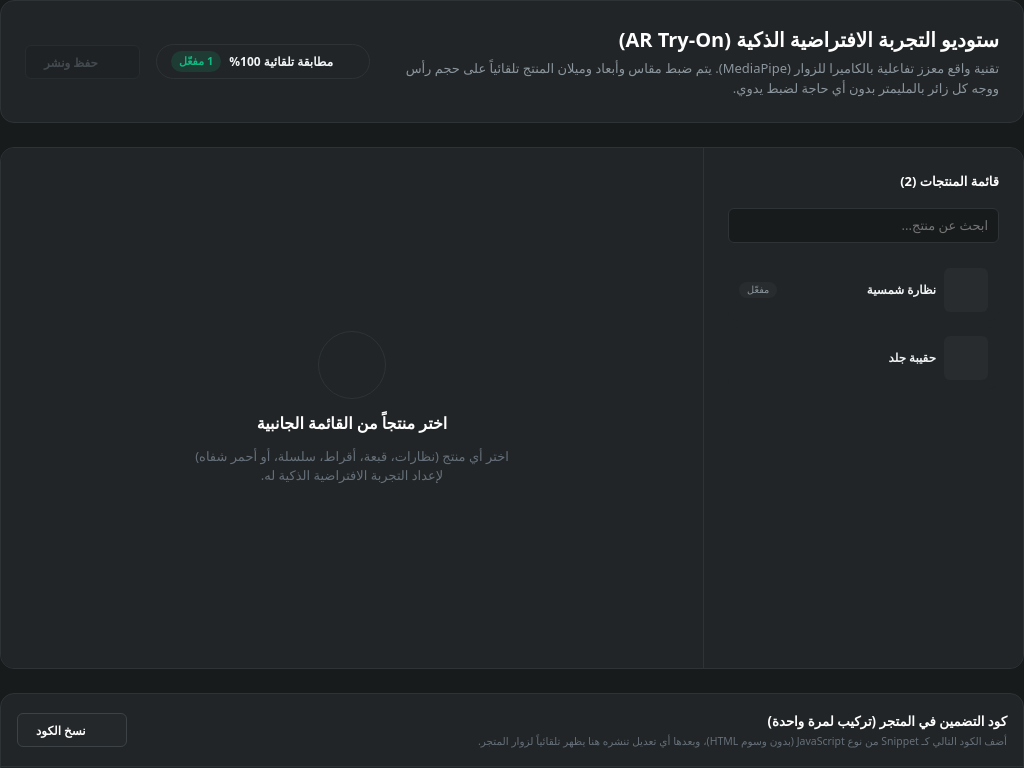
Test: TryOnStudio › filters the product list by search
Type "حقيبة" into the search field with placeholder "ابحث عن منتج..." at (864, 225), box [728,208,999,243]
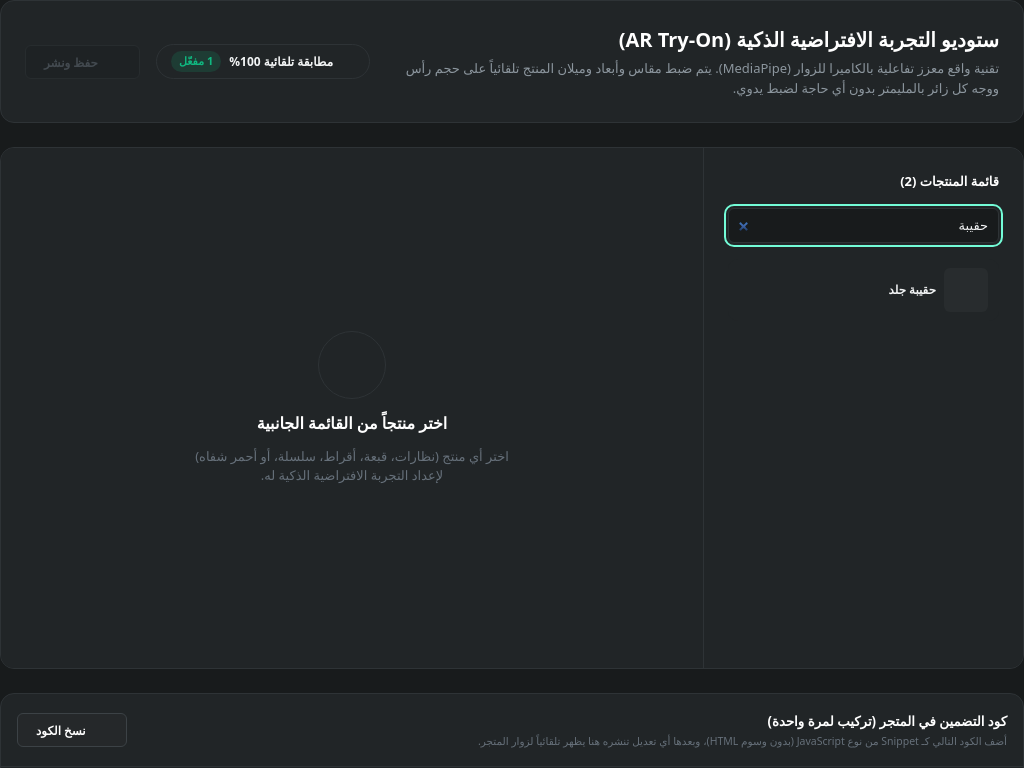
Check: the text "حقيبة جلد" is shown, box [888,281,936,297]
Check: the button "نظارة شمسية" is gone
